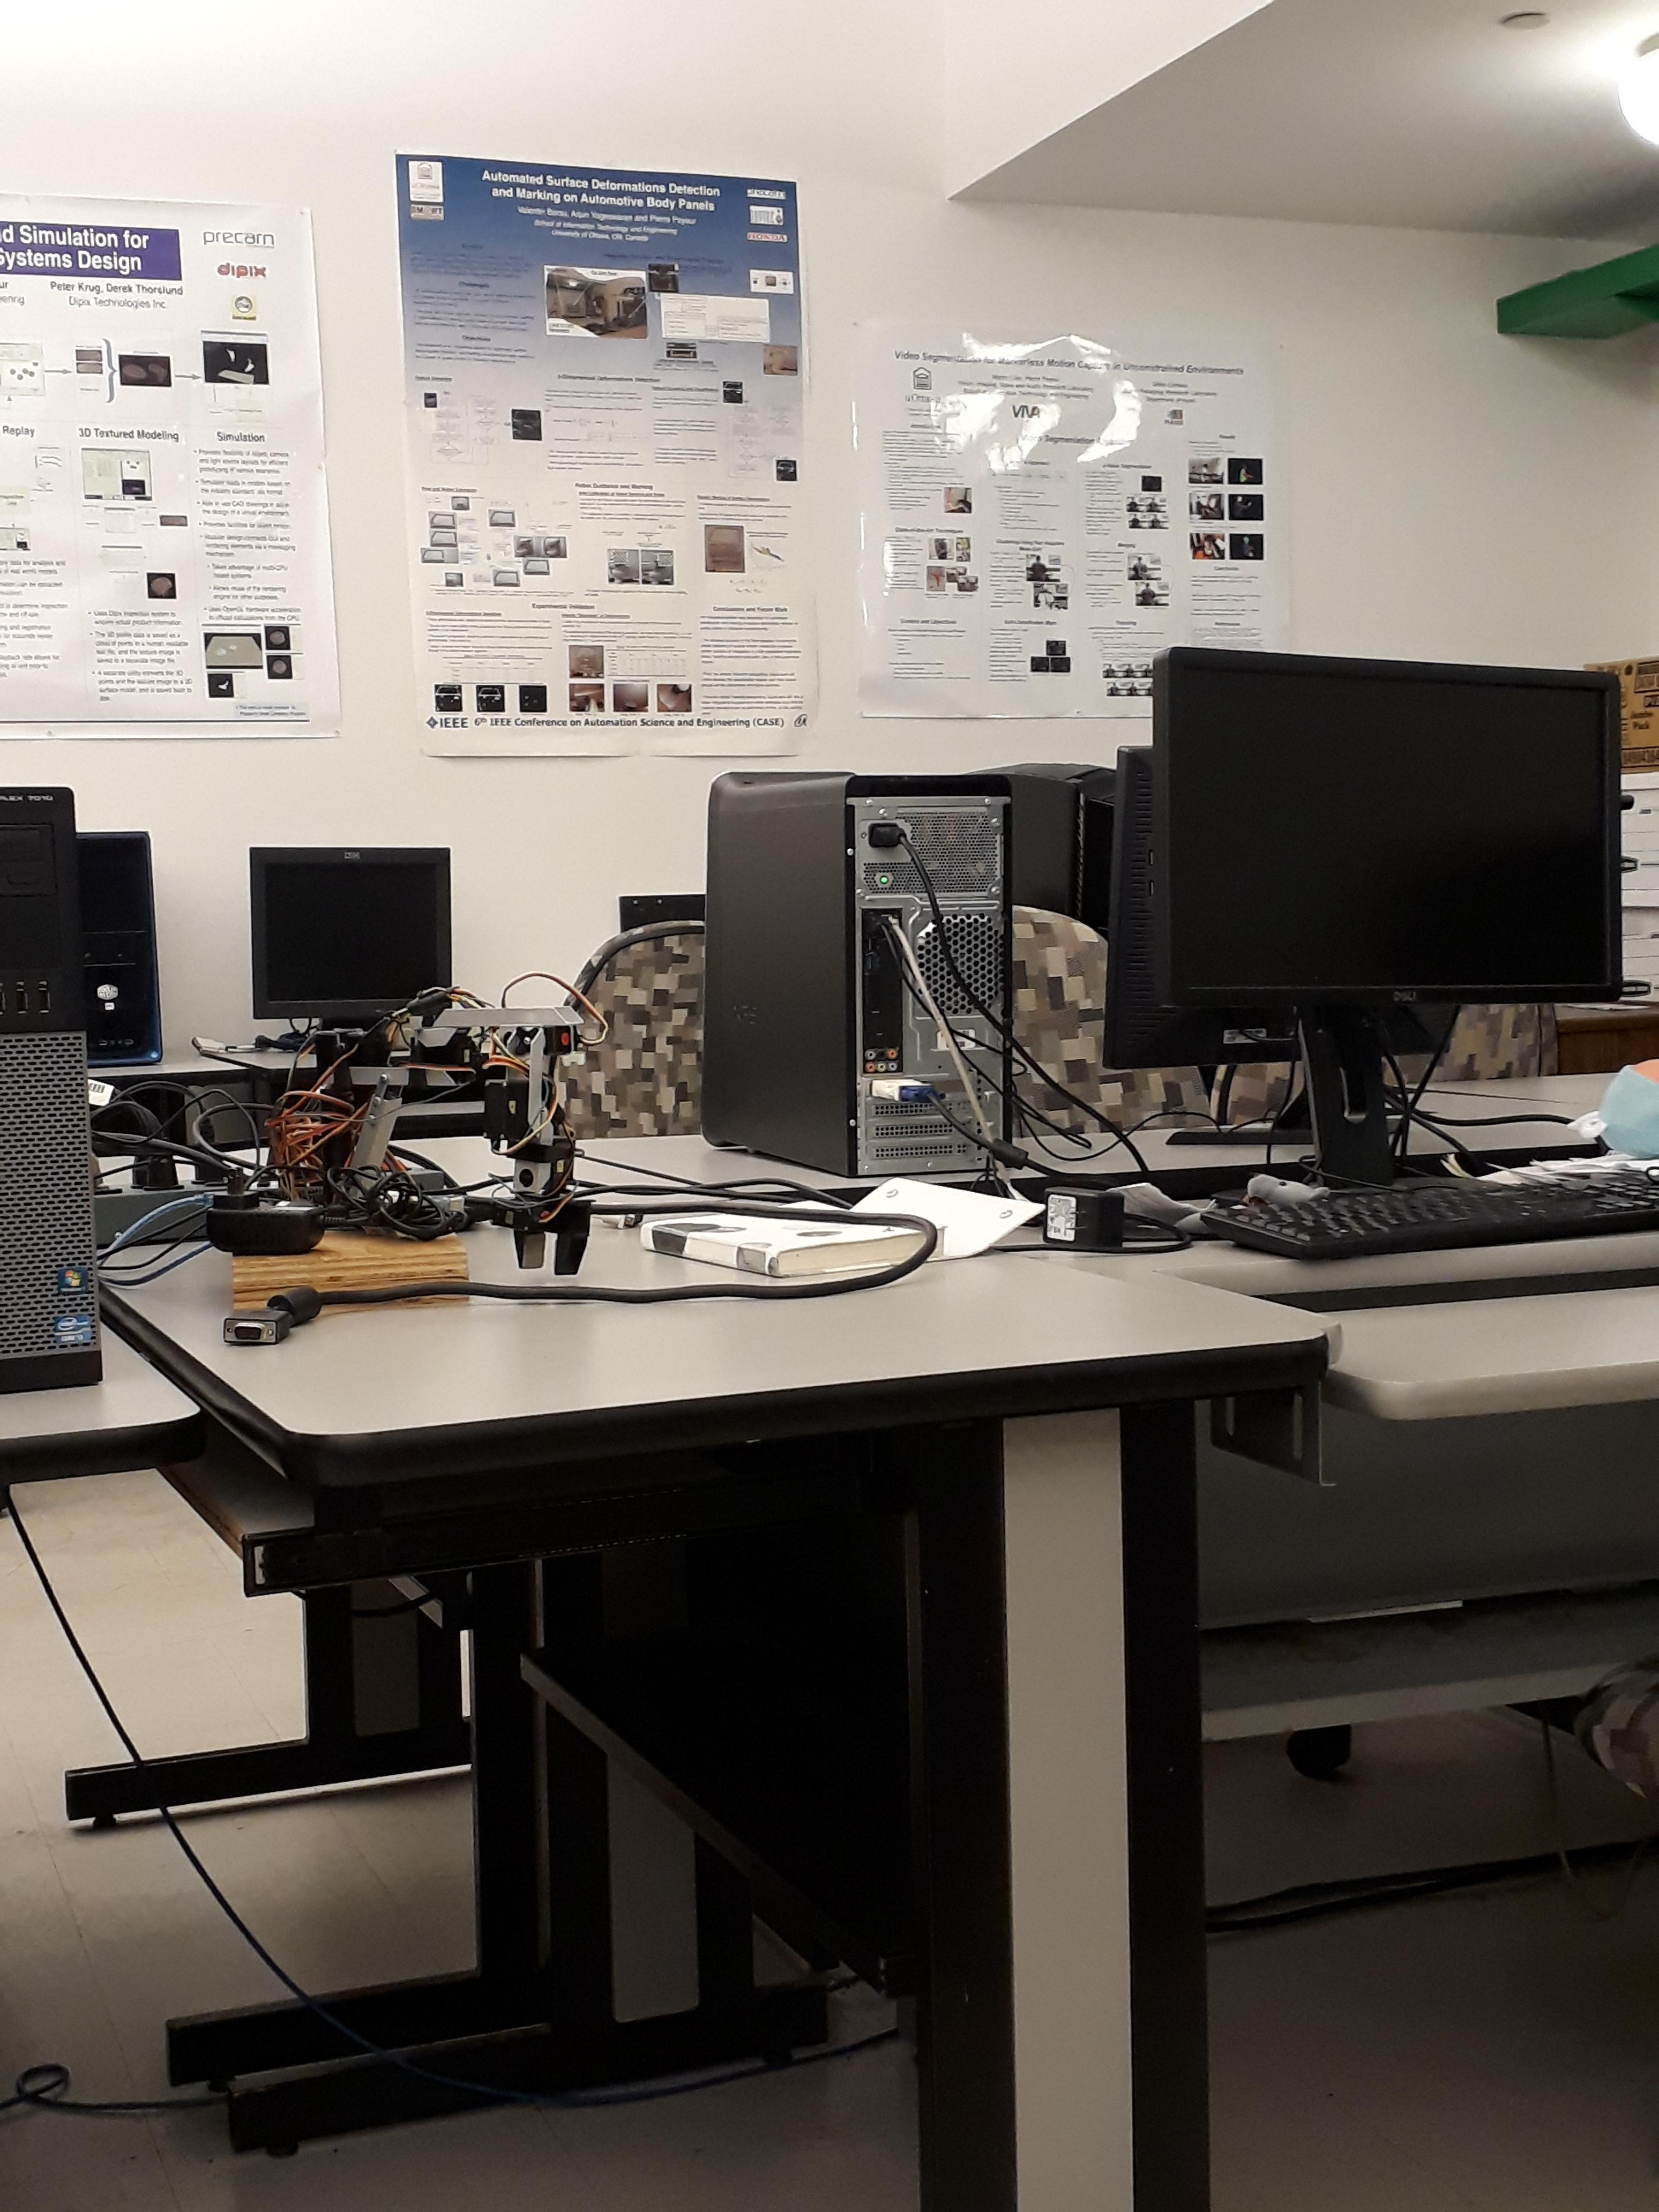tvmonitor: (1173, 658, 1619, 998), (254, 850, 450, 1014)
